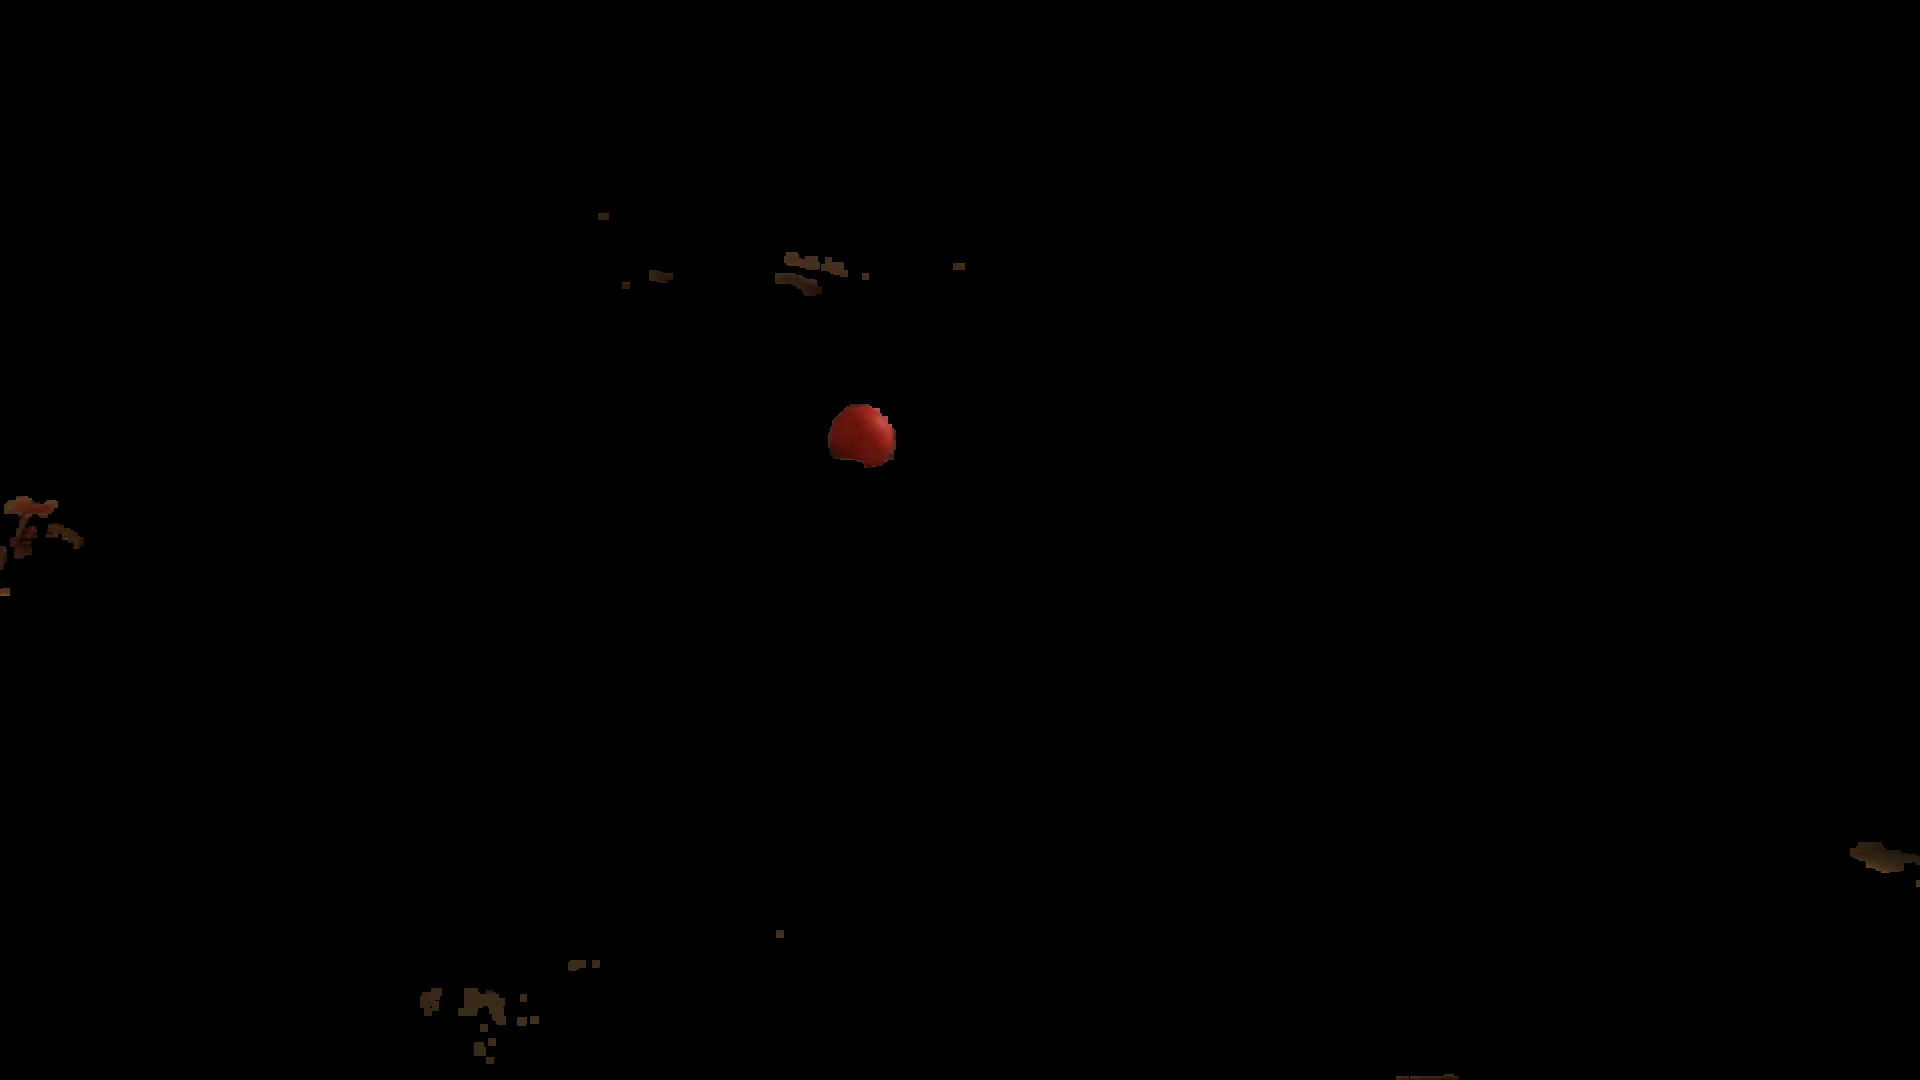Ball: (825, 402, 894, 465)
